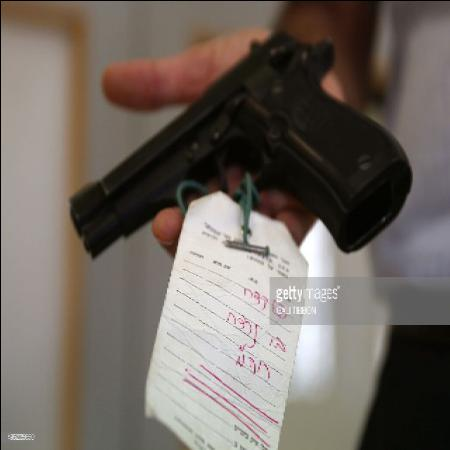Pistol: (64, 23, 414, 261)
